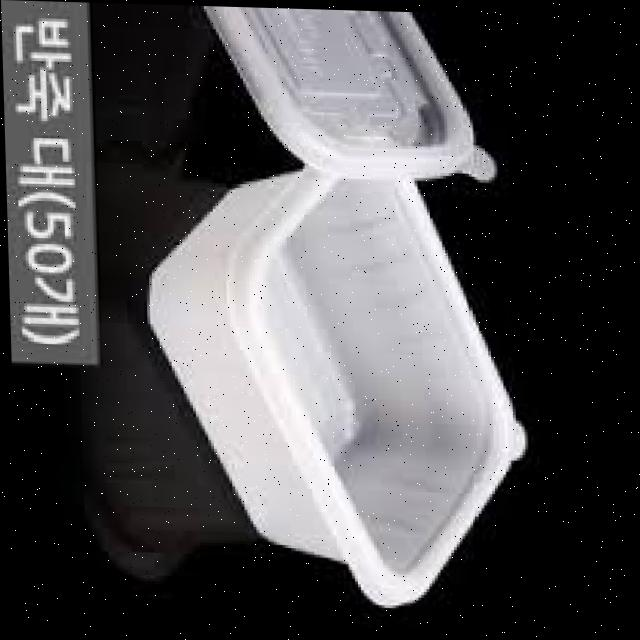disposable: (127, 149, 545, 615)
